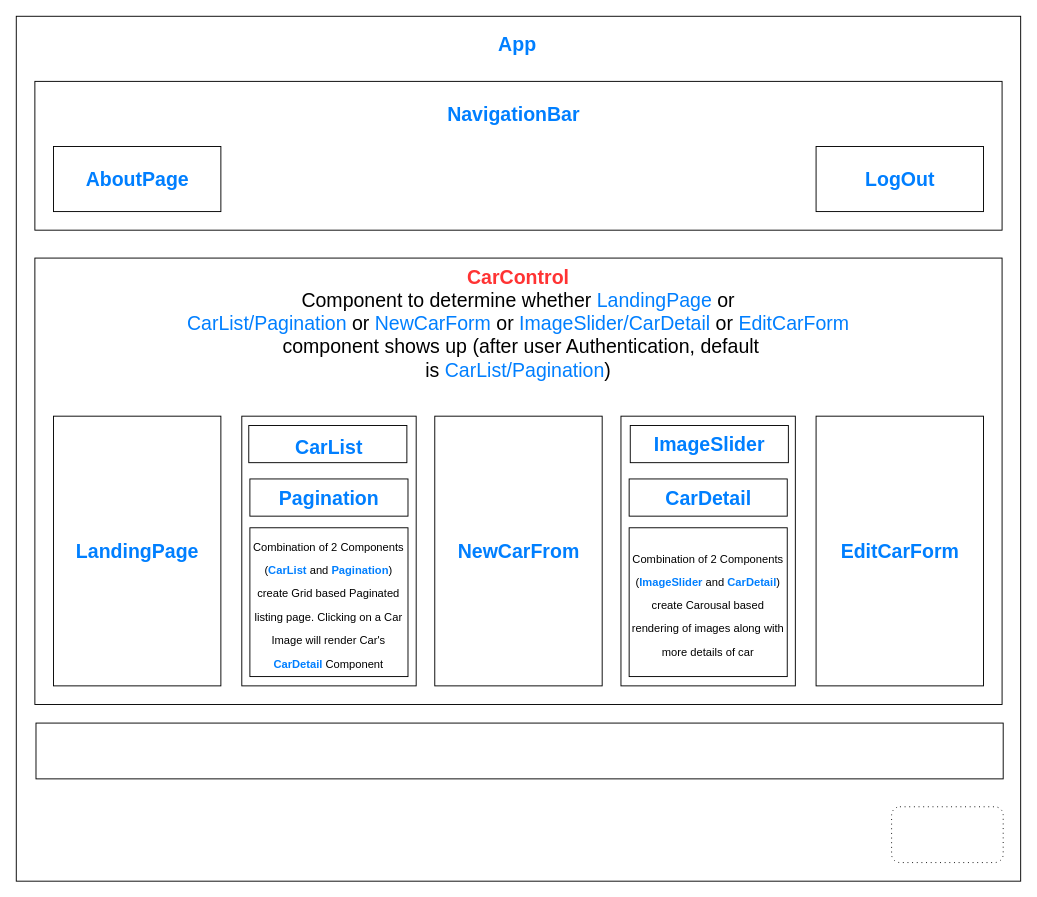
This 1037x897 diagram has some shape labels left out. The box of each missing label's shape, as (x1, y1, x2, y2) in pixels:
Footer: (35, 722, 1003, 779)
Stateful: (891, 806, 1003, 863)
